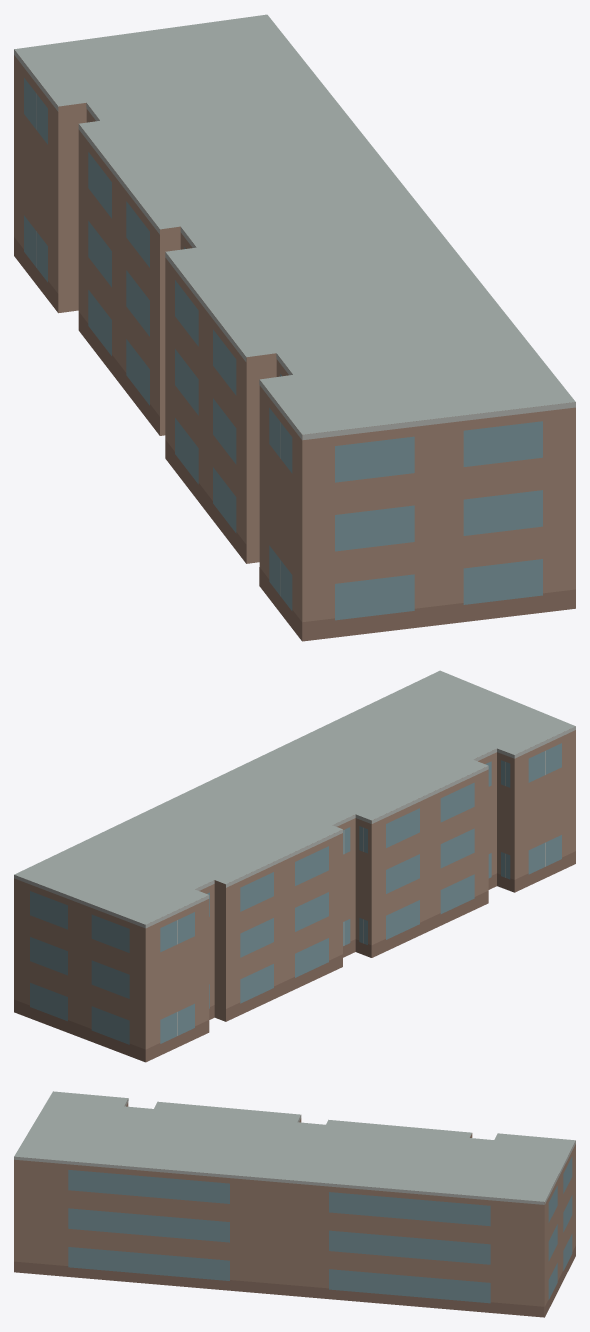
File: survey-upis-32810320.glb
3 renders of one model, top to bottom at view 1: azimuth 30°, elevation 25°; view 2: azimuth 150°, elevation 25°; view 3: azimuth 270°, elevation 25°, orthographic. The views are drawn at different scales.
Visible parts, largest first — view 1: survey-upis-32810320.tmp; view 2: survey-upis-32810320.tmp; view 3: survey-upis-32810320.tmp.
Part boxes in pixels (left/top/right/bottom): survey-upis-32810320.tmp: left=14, top=14, right=575, bottom=641; survey-upis-32810320.tmp: left=14, top=670, right=575, bottom=1062; survey-upis-32810320.tmp: left=14, top=1091, right=575, bottom=1317.
Bounding box in the file's own units: 18.75 × 9.15 × 40.29.
